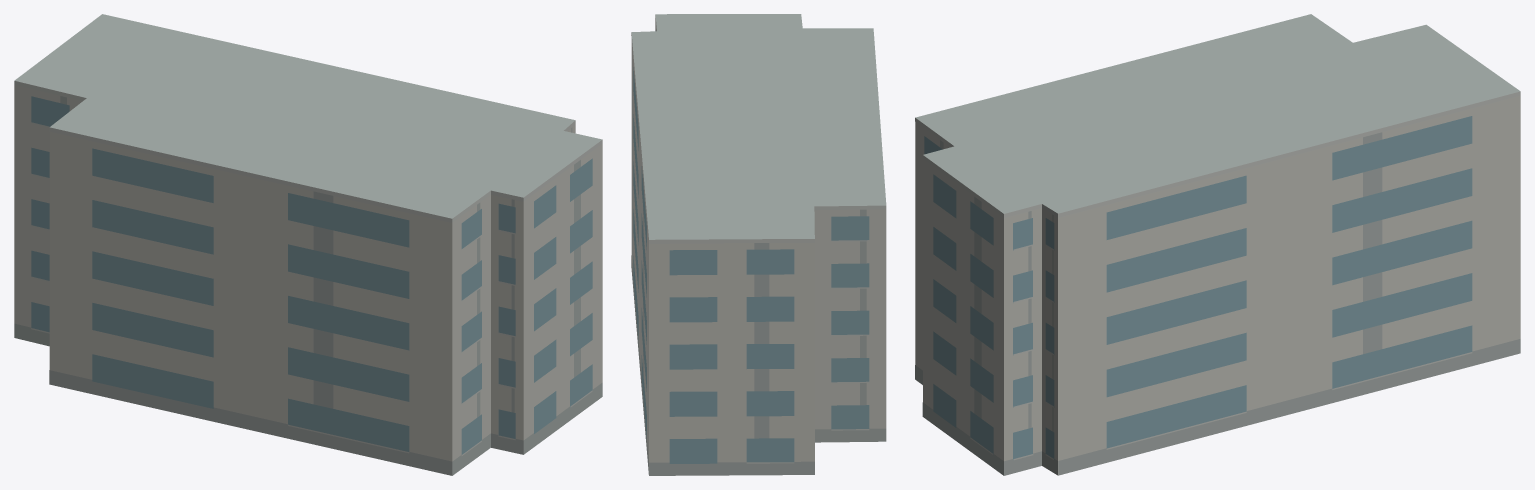
Rendered from survey-upis-32750937.glb.
The picture shows the model from 3 angles, left to right: view 1: azimuth 30°, elevation 25°; view 2: azimuth 150°, elevation 25°; view 3: azimuth 270°, elevation 25°; orthographic projection. The views are drawn at different scales.
Parts seen in each view (by area): view 1: survey-upis-32750937.tmp; view 2: survey-upis-32750937.tmp; view 3: survey-upis-32750937.tmp.
Part boxes in pixels (left/top/right/bottom): survey-upis-32750937.tmp: left=14, top=14, right=602, bottom=475; survey-upis-32750937.tmp: left=631, top=14, right=886, bottom=475; survey-upis-32750937.tmp: left=915, top=14, right=1520, bottom=475.
Bounding box in the file's own units: 24.98 × 15.25 × 31.96.
